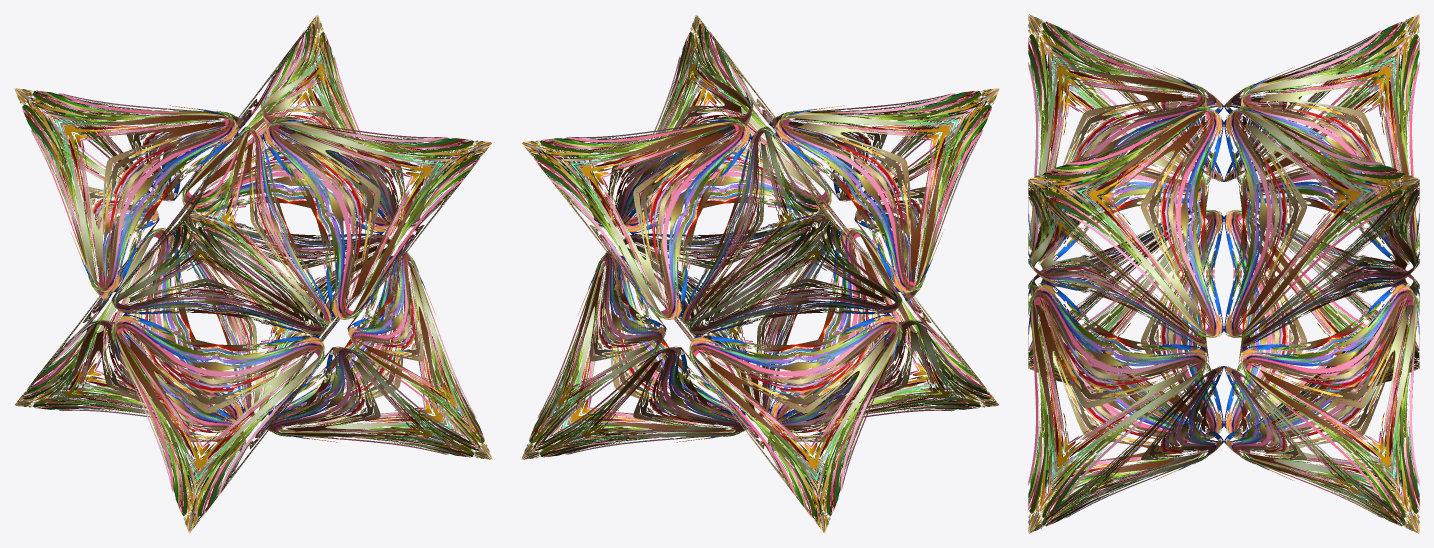
The model's file is StellaOctangula9.obj.
3 views of the same model, side by side, from view 1: azimuth 30°, elevation 25°; view 2: azimuth 150°, elevation 25°; view 3: azimuth 270°, elevation 25° (orthographic). The views are drawn at different scales.
Bounding box in the file's own units: 0.7071 × 0.7071 × 0.7071.
1 material, 1 textured.
